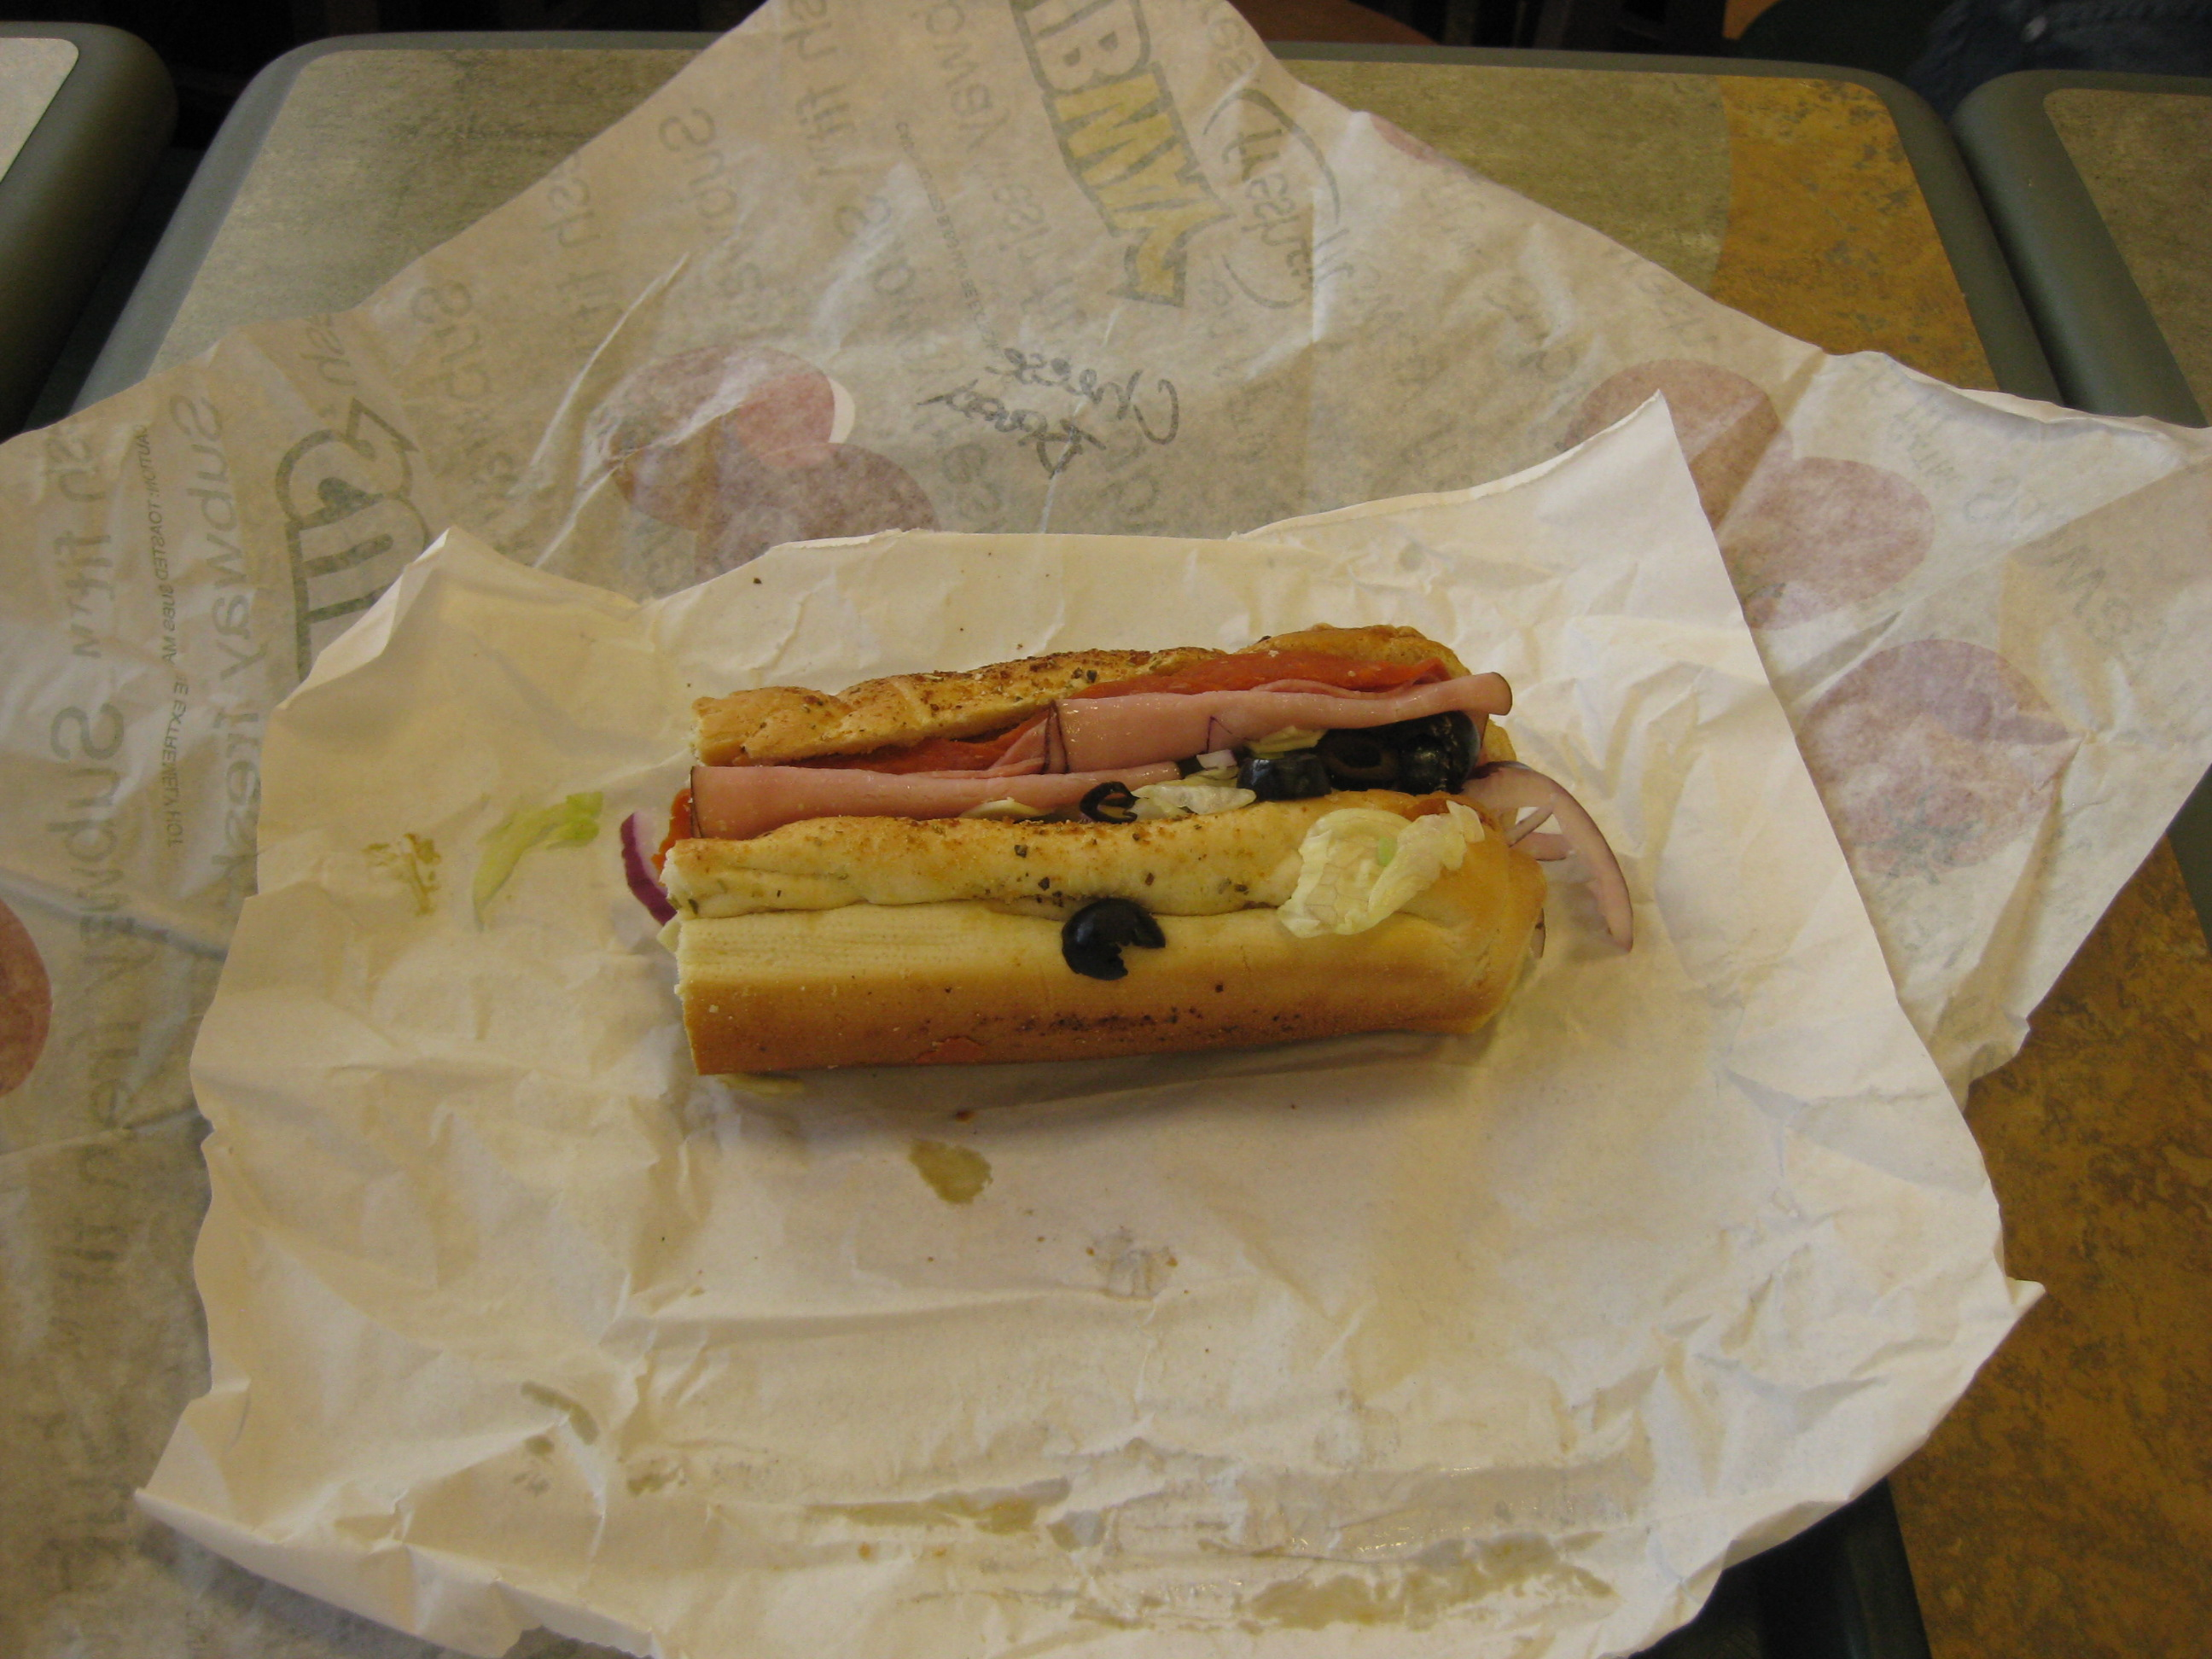sub: (619, 626, 1639, 1063)
